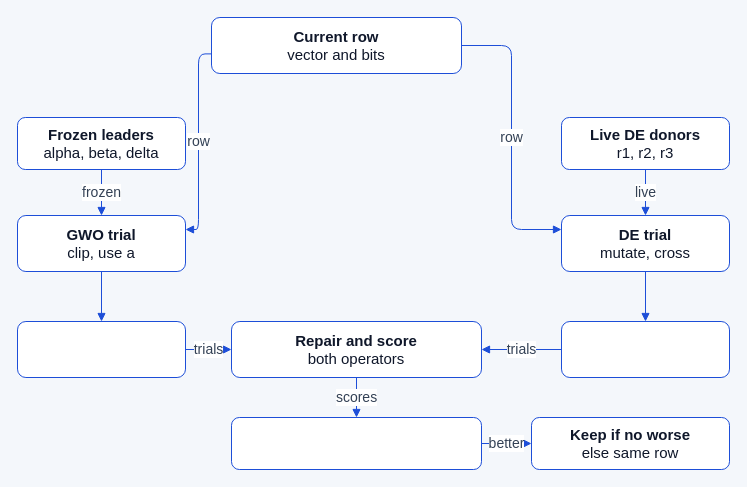
The diagram is 747 pixels wide and 487 high, and some of its shapes have lost their labels. The shapes that lost their labels are listed below. From the top down, each one's box as (x1, y1, x2, y2) in pixels, then its label:
(16, 320, 186, 378): GWO LB2 two flip trials
(560, 320, 730, 378): DE LB2 two flip trials
(230, 416, 482, 470): Operator winner GWO if tie
